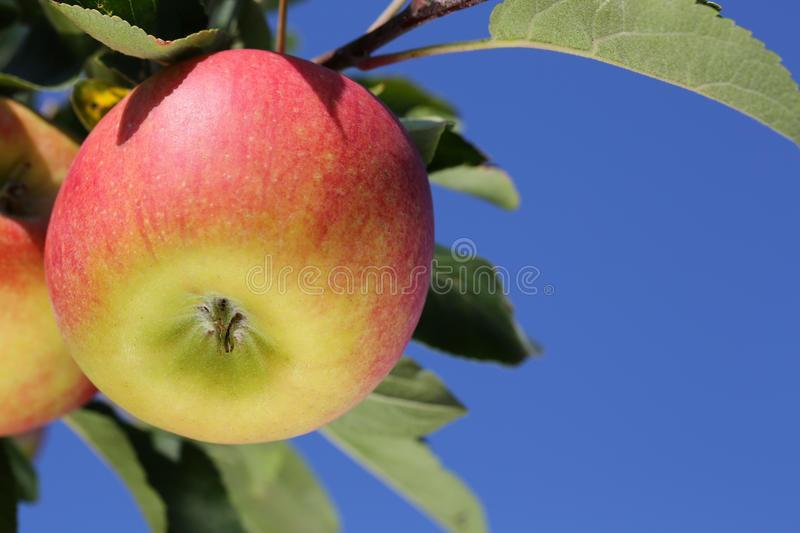apple: (34, 54, 436, 446), (1, 101, 86, 442)
